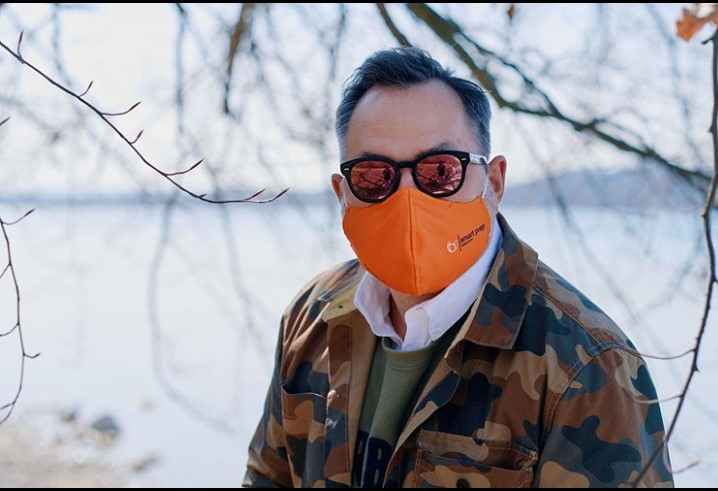face_with_mask: (331, 48, 515, 293)
